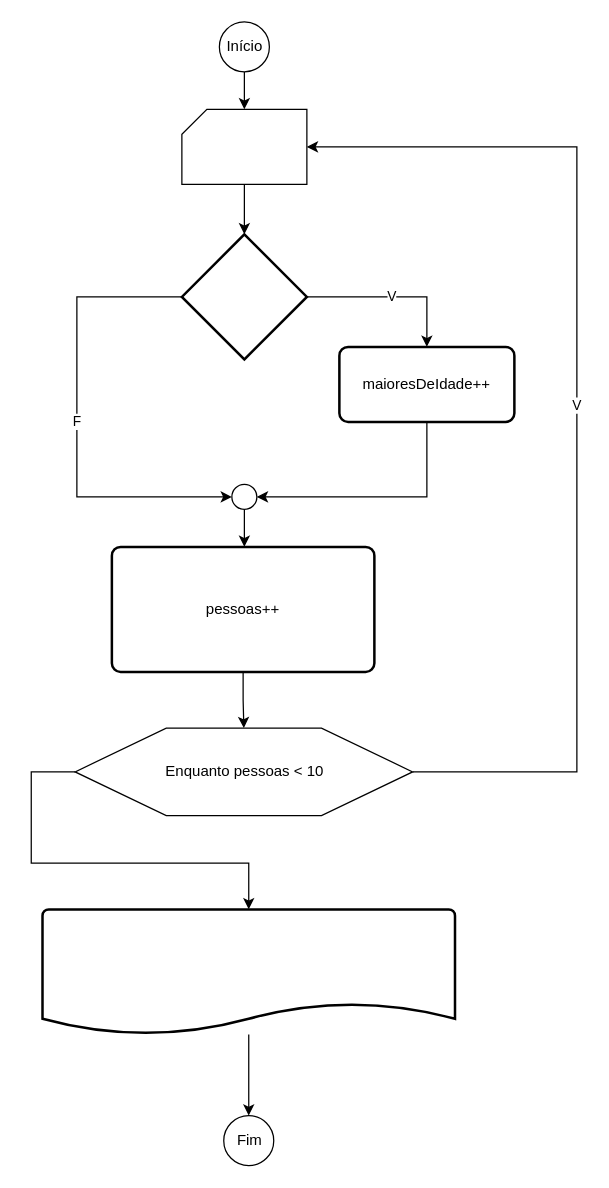
Some shapes in this 609 by 1188 pixel diagram are drawn without their labels. Each missing label, with the centre of its shape:
(idade >= 18): [244,296]
Escreva "Pessoas maiores de 18 anos: " << maioresDeIdade << endl: [248,971]
Leia idade: [244,146]
